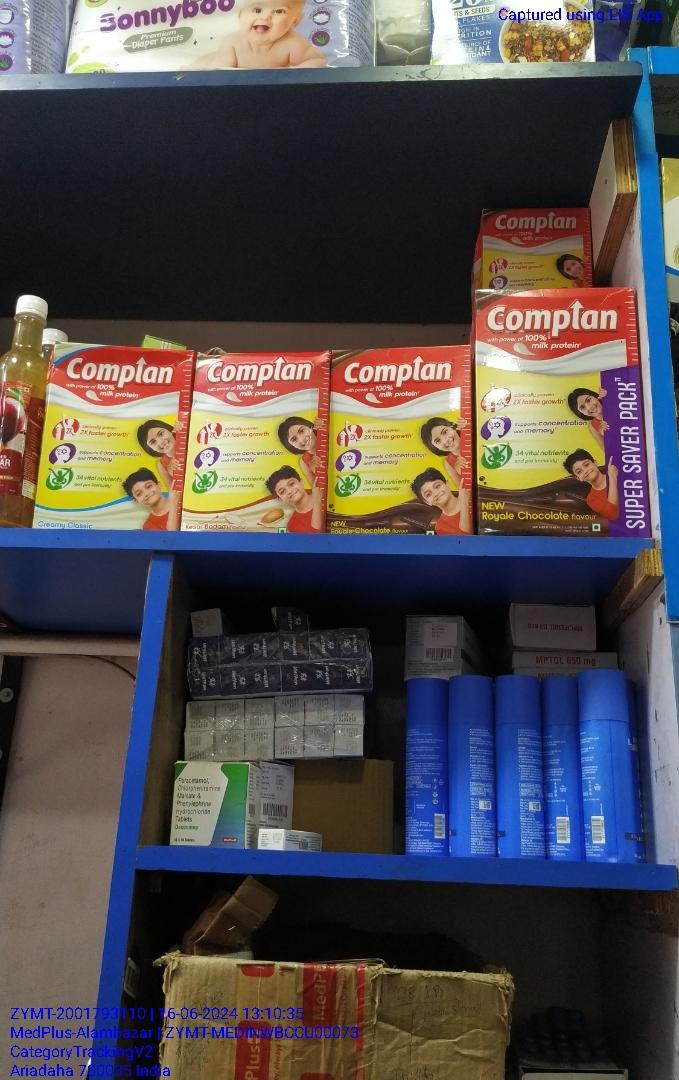COMPLAN_CHOCOLATE_1_KG_PACK: (479, 291, 647, 533)
COMPLAN_CREAMY_CLASSIC_500_G_PACK: (45, 342, 185, 535)
